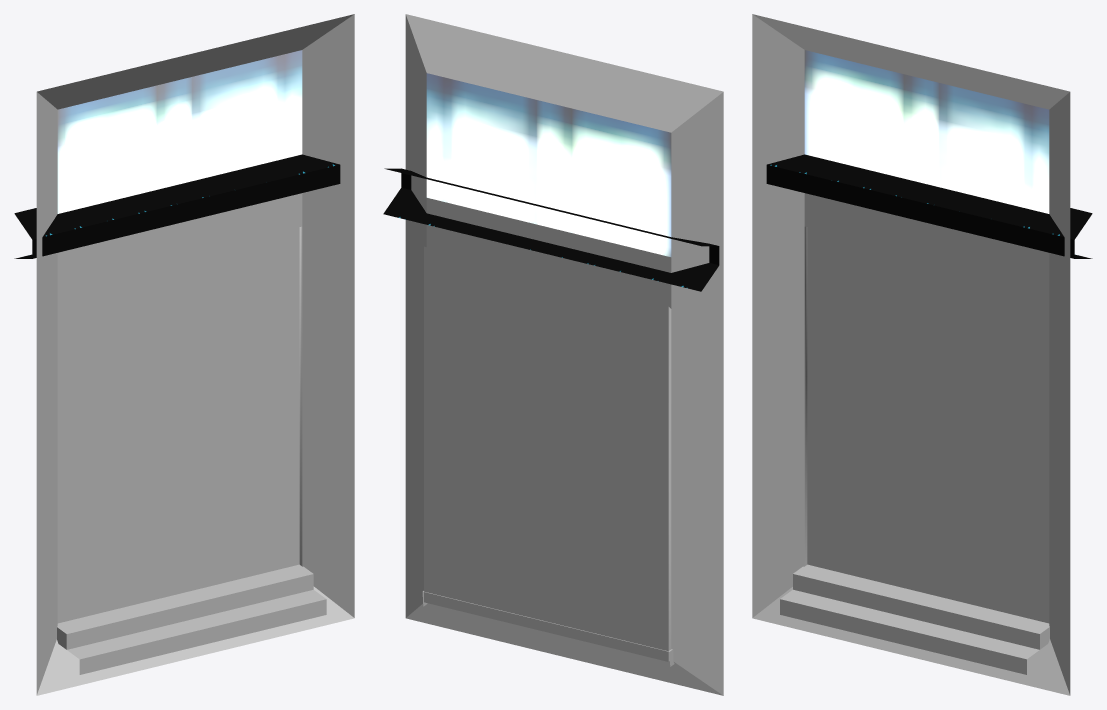
Rendered from Wall_Module_02_Art.fbx.
3 renders of one model, left to right at view 1: azimuth 30°, elevation 25°; view 2: azimuth 150°, elevation 25°; view 3: azimuth 330°, elevation 25°, orthographic.
Visible parts, largest first — view 1: Wall_Module_02; view 2: Wall_Module_02; view 3: Wall_Module_02.
Boxes of the visible parts, x1=… form: Wall_Module_02: x1=14, y1=14, x2=354, y2=695; Wall_Module_02: x1=383, y1=14, x2=723, y2=695; Wall_Module_02: x1=752, y1=14, x2=1092, y2=695.
Bounding box in the file's own units: 2.27 × 4.13 × 0.3728.
